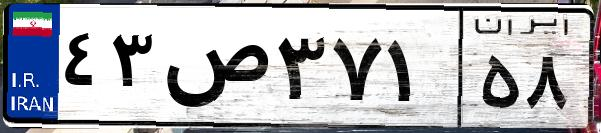1: (385, 28, 445, 110)
3: (270, 28, 330, 110), (110, 28, 158, 98)
4: (57, 26, 110, 100)
5: (475, 38, 525, 113)
7: (330, 28, 385, 110)
8: (525, 38, 570, 115)
ص: (158, 20, 270, 120)
